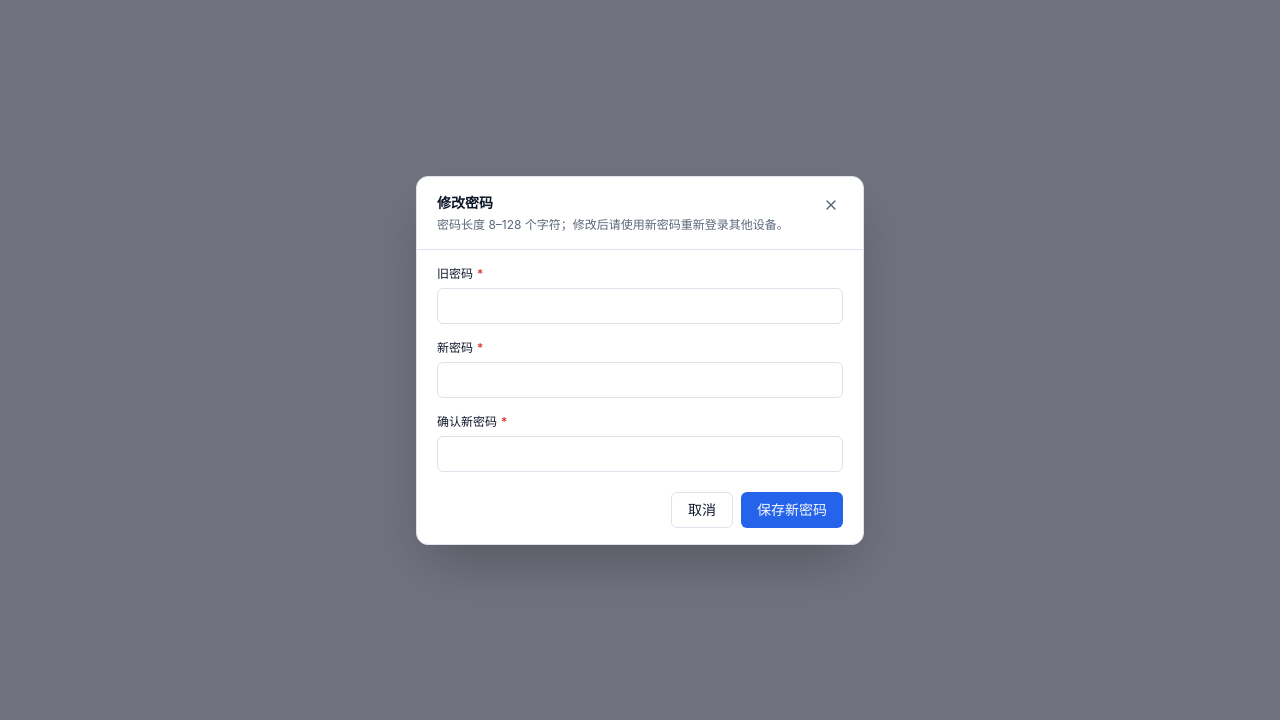
Test case: ChangePasswordDialog › shows the API error and keeps the dialog open
Type "wrongpass" into the password field labelled "旧密码".
click(640, 306); type("wrongpass")  # box [437, 288, 843, 324]
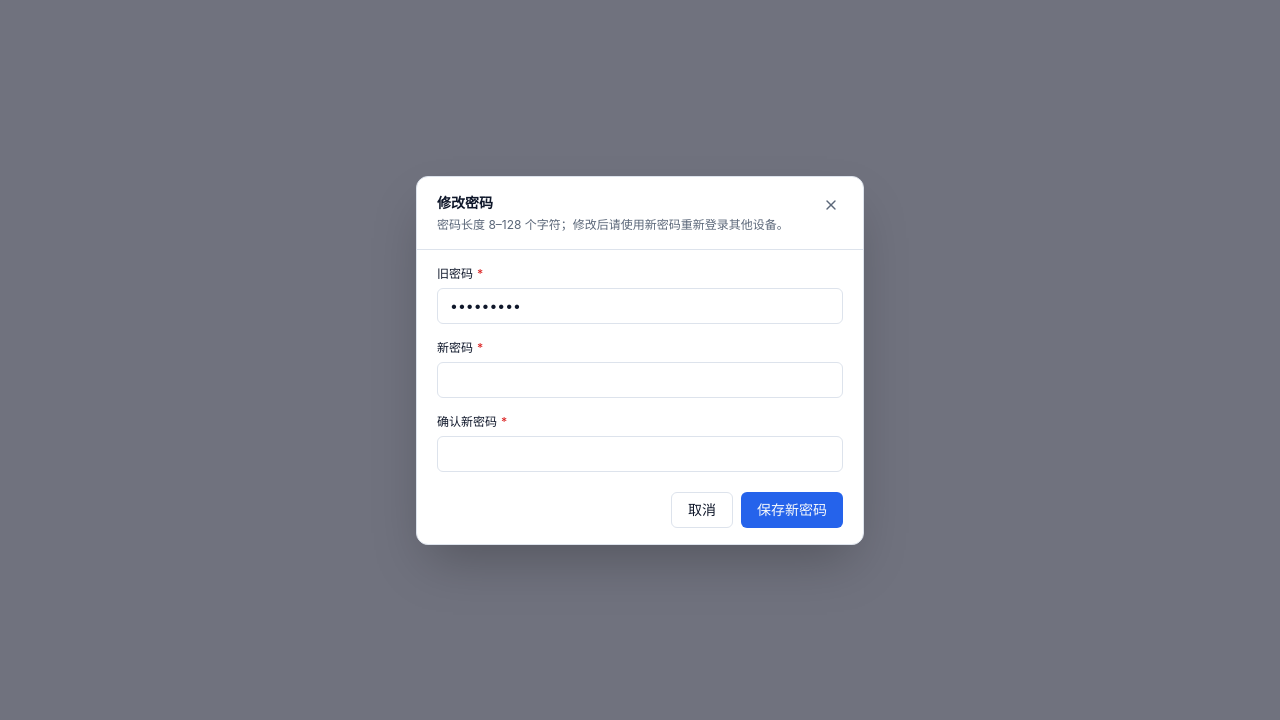
Type "newpass123" into the password field labelled "新密码".
click(640, 380); type("newpass123")  # box [437, 362, 843, 398]
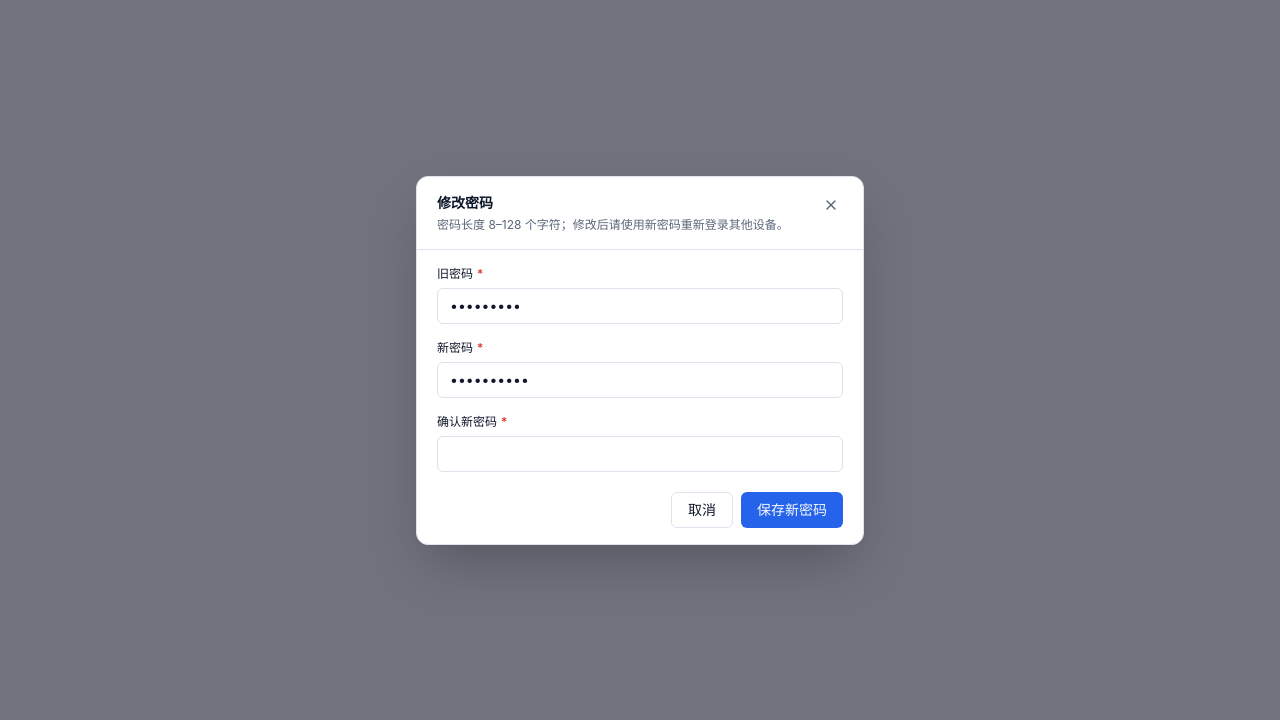
Type "newpass123" into the password field labelled "确认新密码".
click(640, 454); type("newpass123")  # box [437, 436, 843, 472]
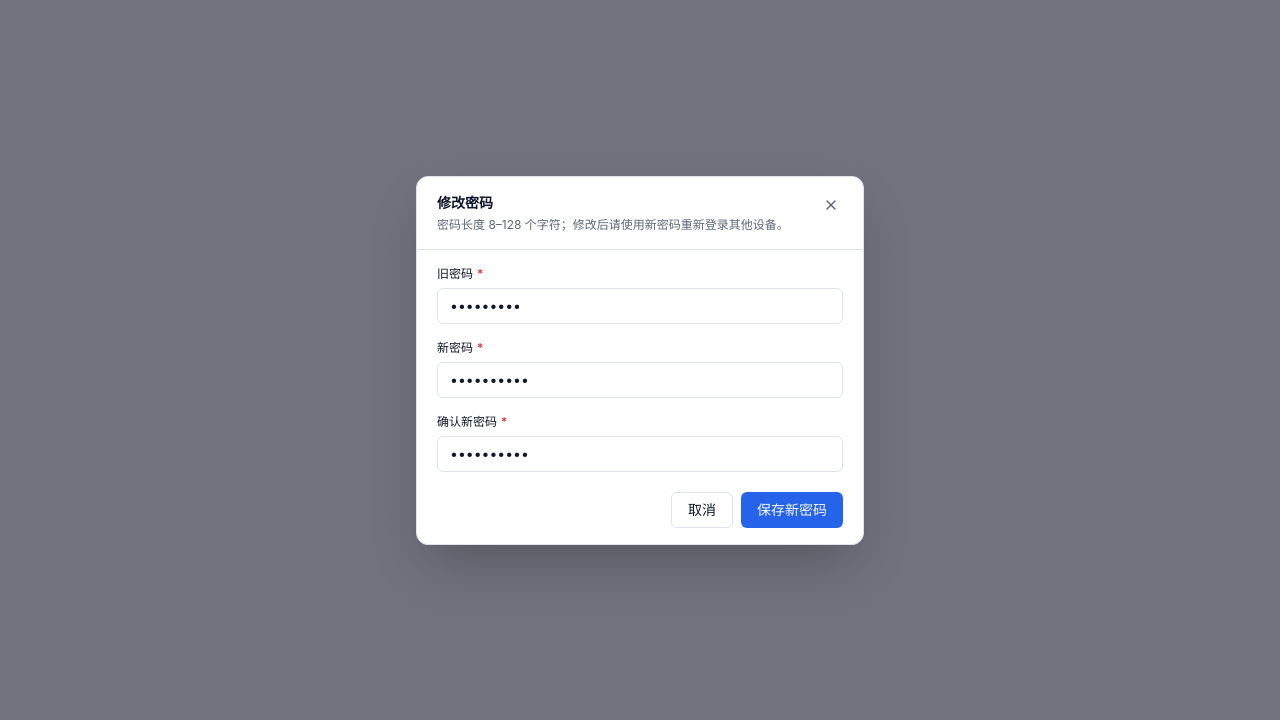
Click the button "保存新密码".
click(792, 510)  # box [741, 492, 843, 528]
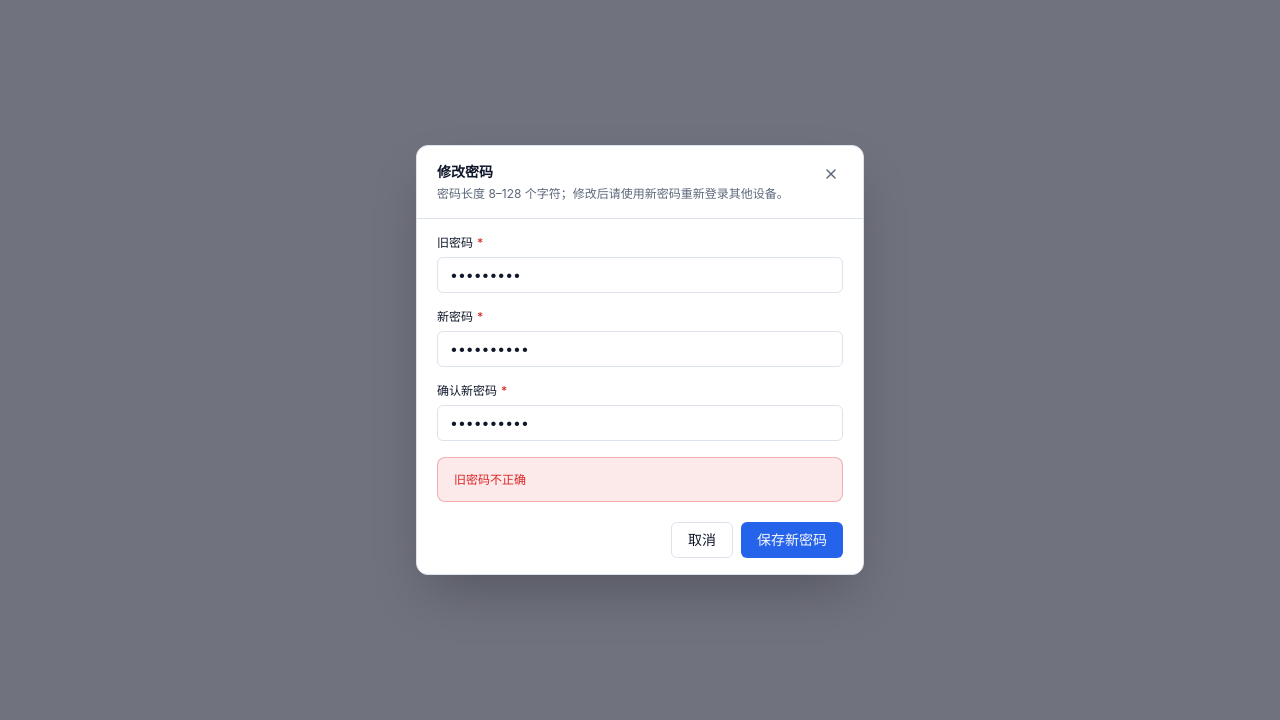
Expected: the message reads "旧密码不正确", [454, 472, 526, 487]
